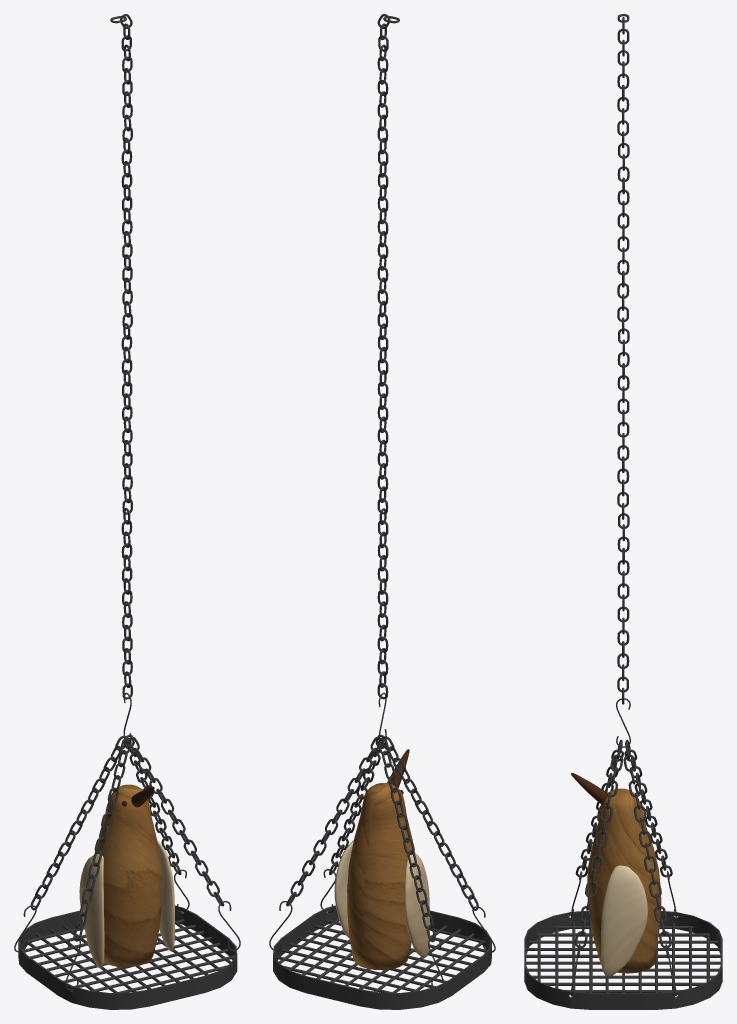
The model's file is rihutoB_down_B.fbx.
3 renders of one model, left to right at view 1: azimuth 30°, elevation 25°; view 2: azimuth 150°, elevation 25°; view 3: azimuth 270°, elevation 25°, orthographic.
Parts seen in each view (by area): view 1: rihuto_P_L; view 2: rihuto_P_L; view 3: rihuto_P_L.
Boxes of the visible parts, x1,y1,x2,y2 form: rihuto_P_L: (14, 14, 240, 1009); rihuto_P_L: (269, 14, 495, 1009); rihuto_P_L: (524, 14, 722, 1009).
Size of the model in its own units: 59.85 by 310 by 58.65.
3 materials, 3 textured.
